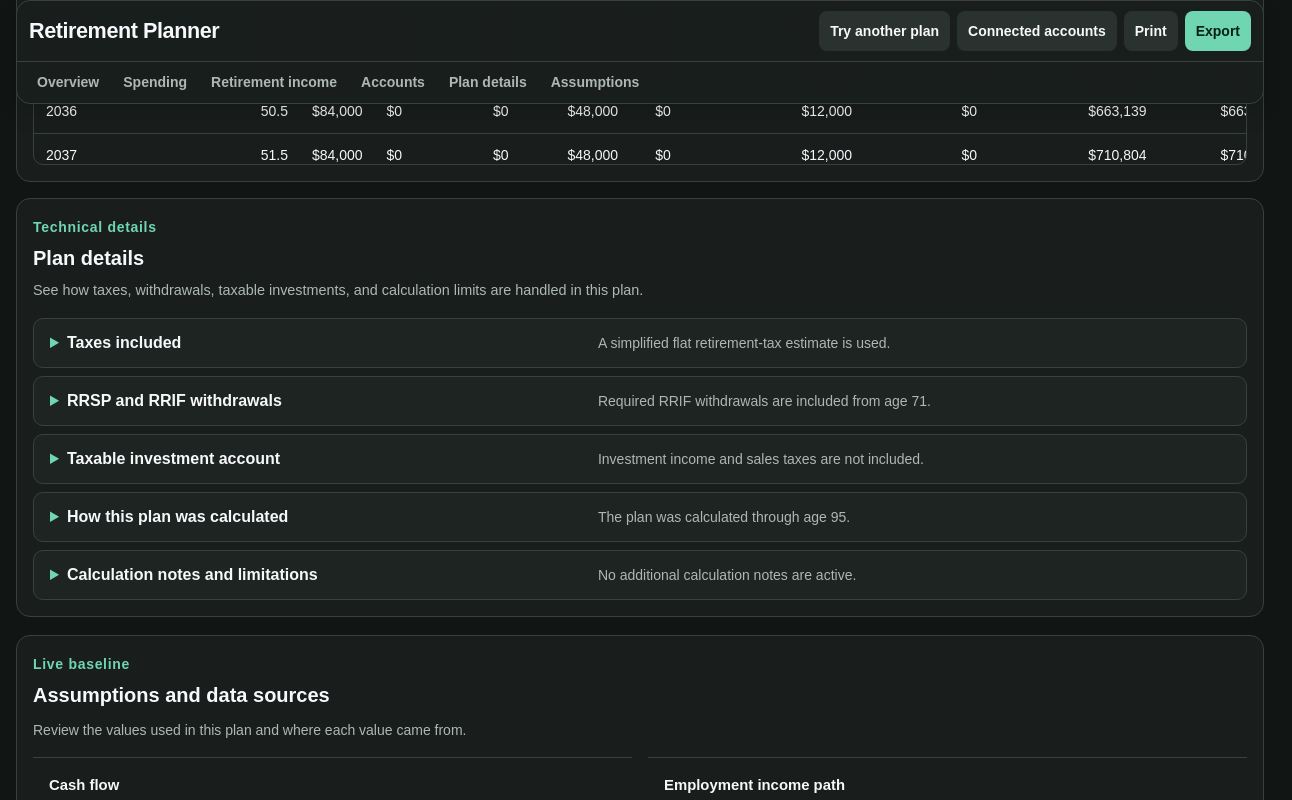
Test case: dashboard config-save baseline transitions › shows the RRIF conversion age and plain-language withdrawal evidence
This screenshot has width=1292, height=800.
(page scrolled)
Expected: the text "Required RRIF withdrawals are included from age 71." is shown, 598,393 -> 931,409
Click the heading "RRSP and RRIF withdrawals" at (174, 400), box 67,392 -> 931,409
(page scrolled)
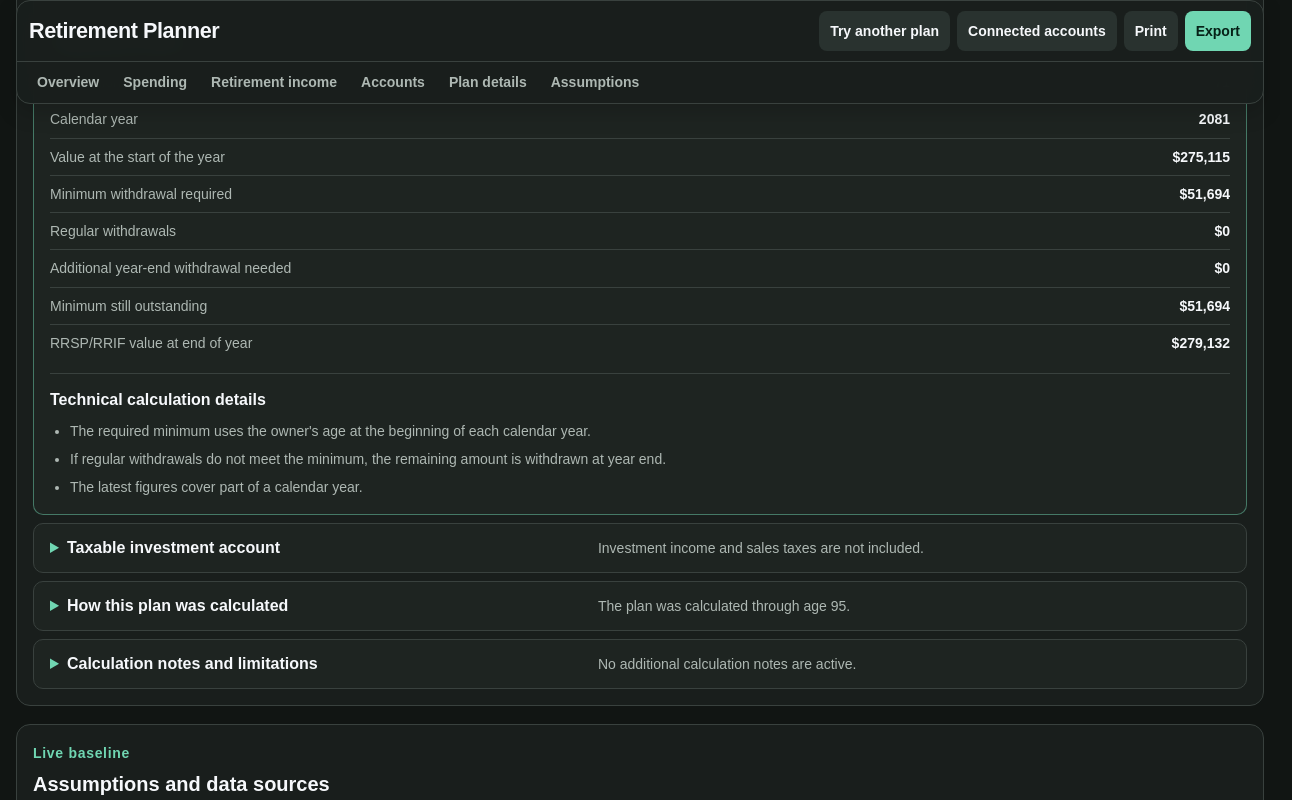
Expected: the text "Calendar year" is shown, 50,109 -> 138,130
Expected: the text "Value at the start of the year" is shown, 50,147 -> 225,167
Expected: the text "Minimum withdrawal required" is shown, 50,184 -> 232,204
